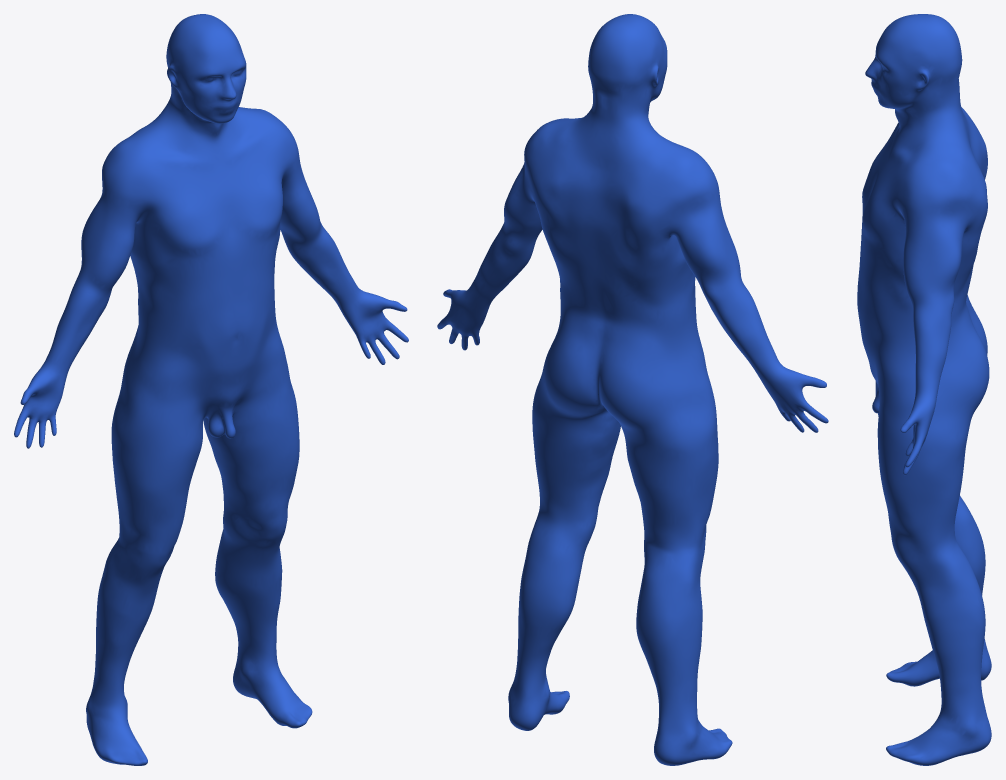
File: skin.glb
The picture shows the model from 3 angles, left to right: view 1: azimuth 30°, elevation 25°; view 2: azimuth 150°, elevation 25°; view 3: azimuth 270°, elevation 25°; orthographic projection. The views are drawn at different scales.
Visible parts, largest first — view 1: VH_M_skin; view 2: VH_M_skin; view 3: VH_M_skin.
Boxes of the visible parts, x1,y1,x2,y2 form: VH_M_skin: (14, 14, 408, 765); VH_M_skin: (437, 14, 828, 765); VH_M_skin: (857, 14, 991, 765).
Bounding box in the file's own units: 1.05 × 1.83 × 0.3162.
